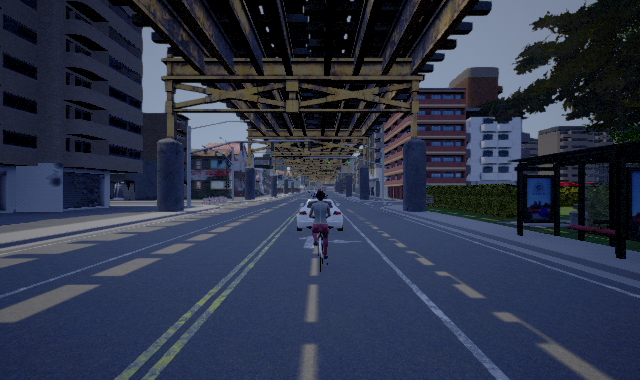bike: (308, 191, 335, 259)
traffic_light: (348, 158, 350, 163), (328, 158, 330, 163)
vehicle: (297, 189, 346, 231)
